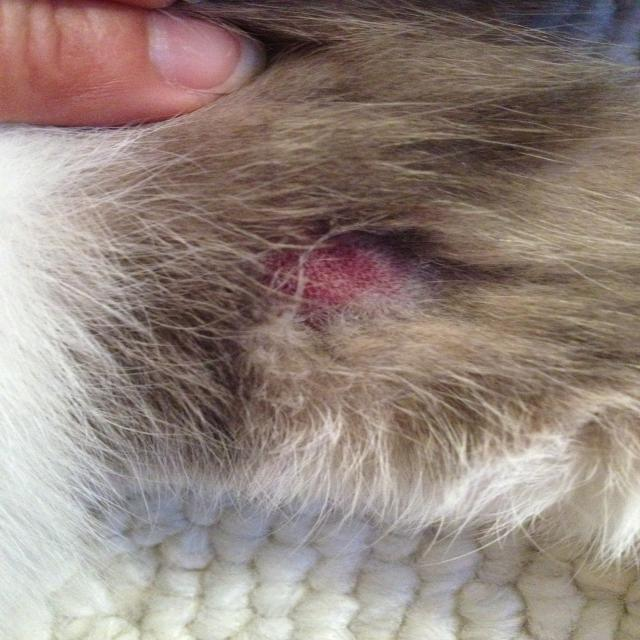hac lao: (242, 217, 440, 367)
